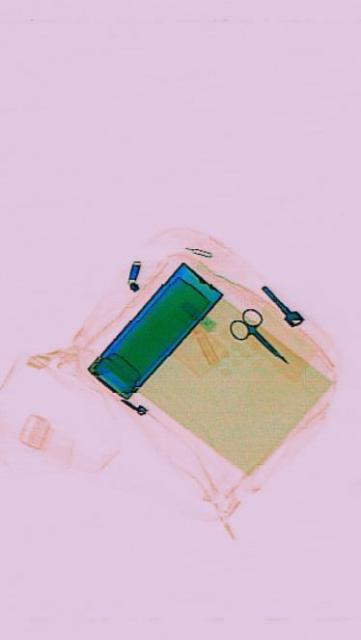Scissors: (224, 293, 292, 381)
